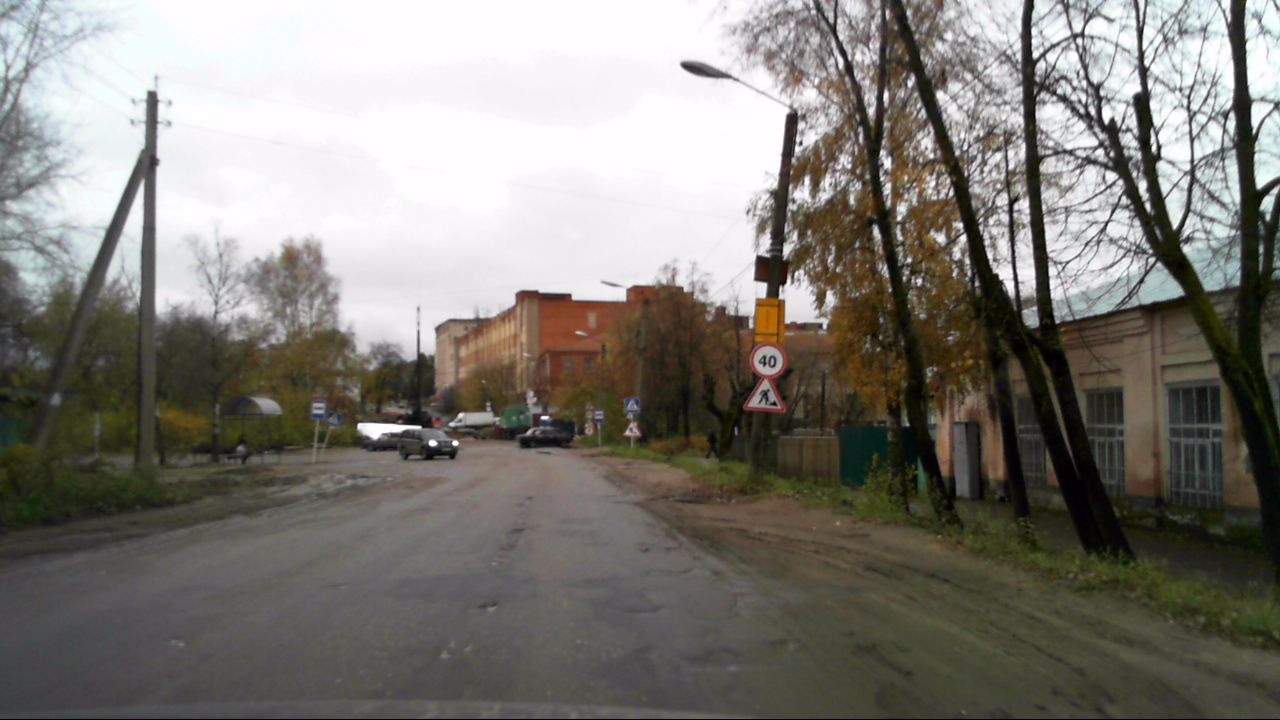speed_warning_40: (747, 340, 787, 378)
